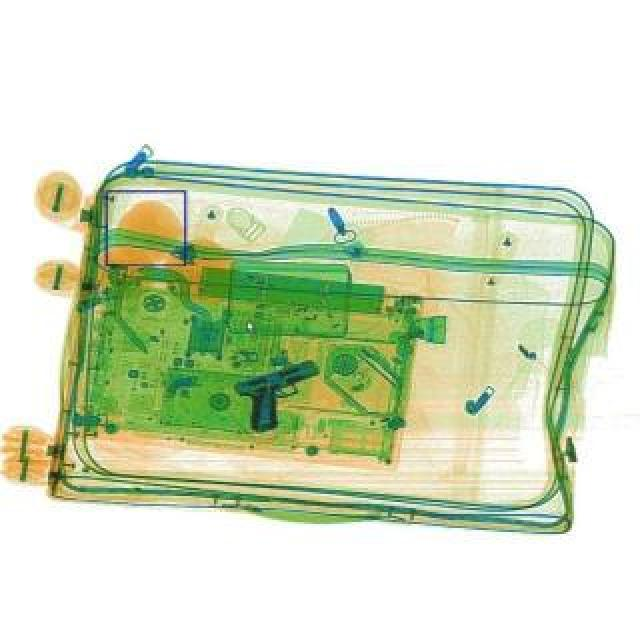gun: (232, 358, 334, 434)
